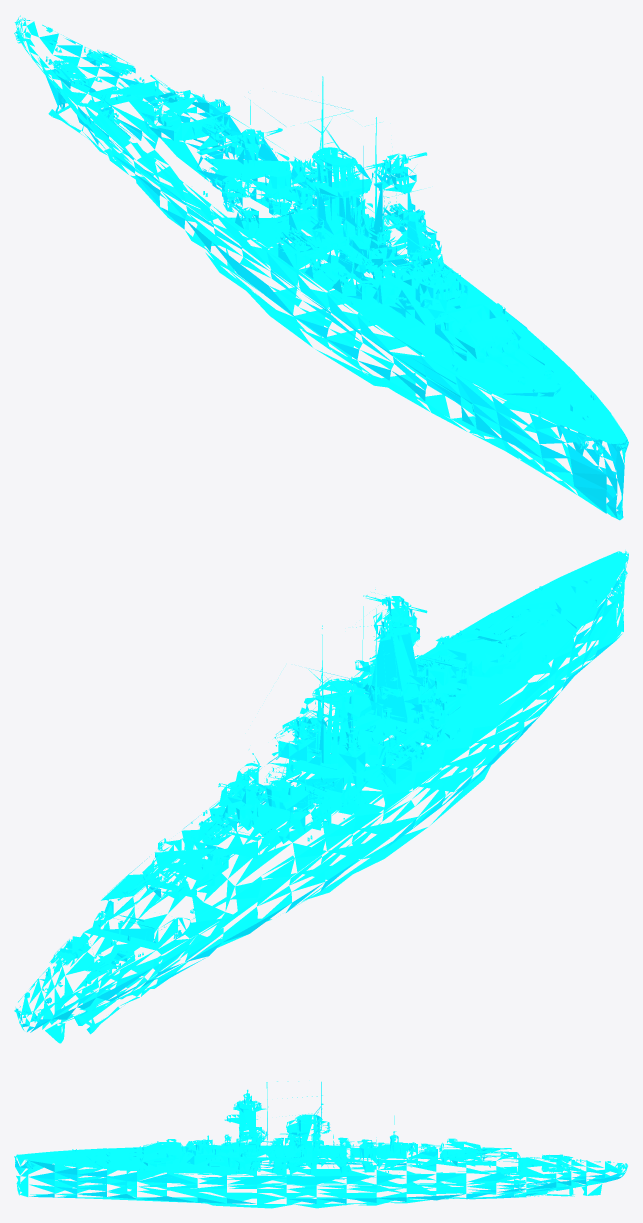
File: PGSC506.glb
3 views of the same model, one above another, from view 1: azimuth 30°, elevation 25°; view 2: azimuth 150°, elevation 25°; view 3: azimuth 270°, elevation 25° (orthographic). The views are drawn at different scales.
Visible parts, largest first — view 1: hull, turret; view 2: hull, turret; view 3: hull, turret.
Boxes of the visible parts, bbox=[...] form: hull: bbox=[14, 15, 628, 520]; turret: bbox=[50, 49, 453, 294]; hull: bbox=[14, 550, 628, 1043]; turret: bbox=[49, 706, 454, 976]; hull: bbox=[14, 1081, 627, 1208]; turret: bbox=[233, 1133, 572, 1173].
Size of the model in its own units: 1.58 by 2.58 by 12.42.
